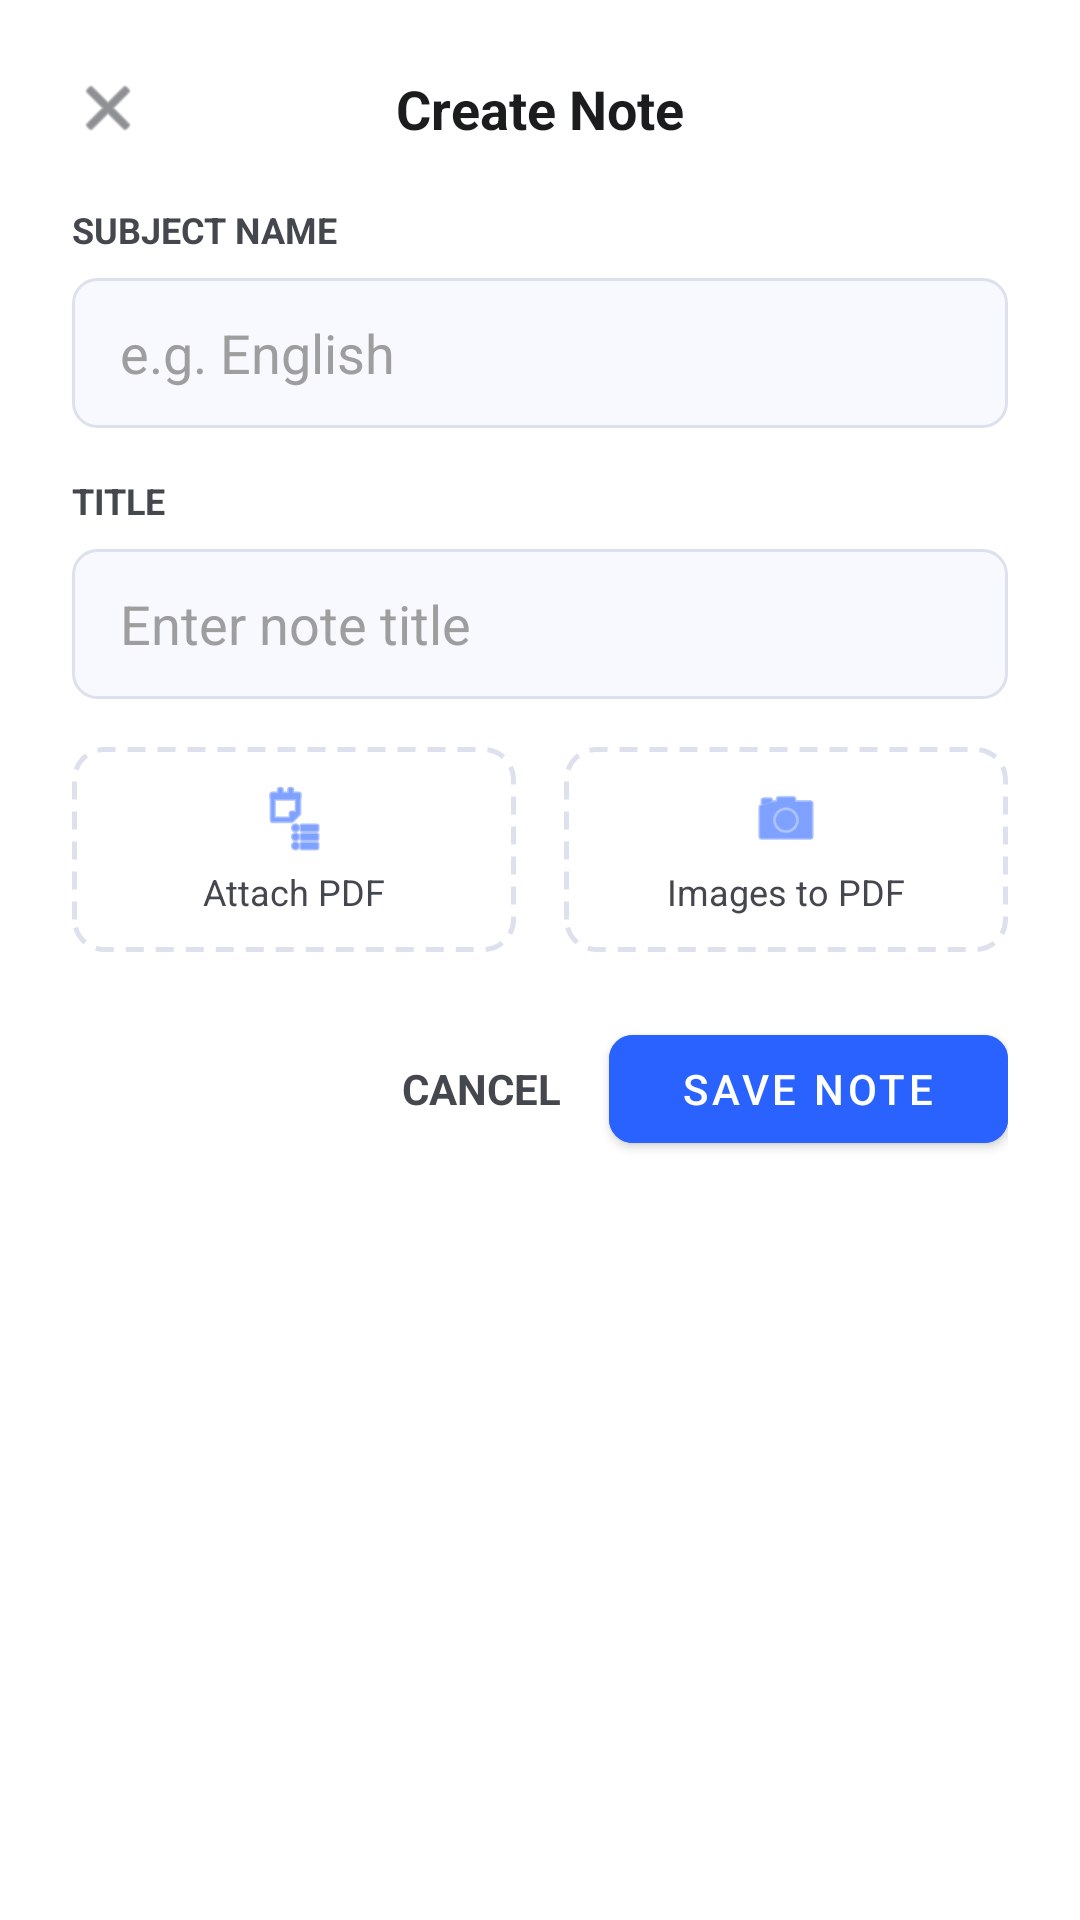

Icon click points for this 1080 x 1920 phone screenshot, format (x=x, y=y):
agenda: (x=294, y=819)
camera: (x=786, y=818)
close clear cancel: (x=108, y=108)
